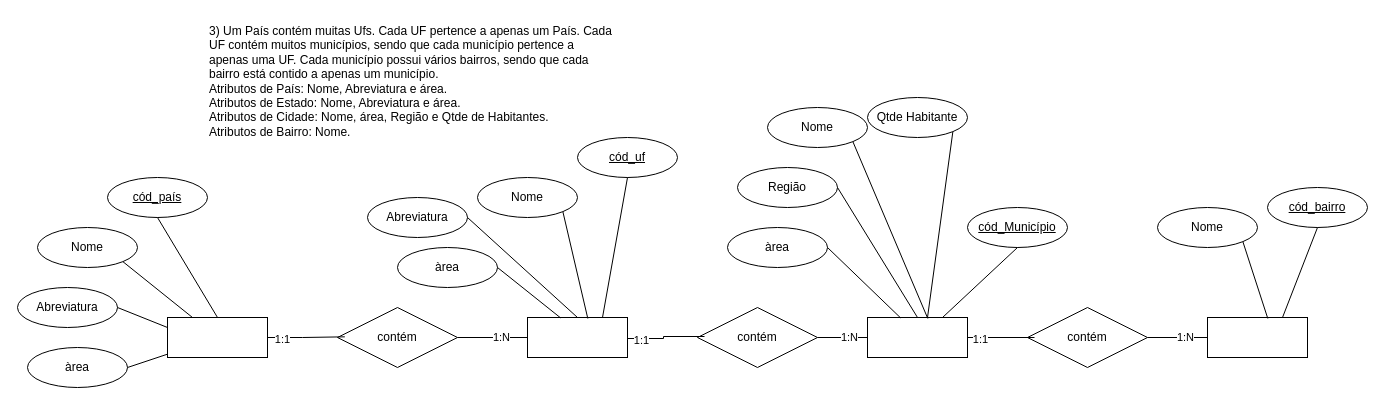
The diagram is 1385 pixels wide and 405 high, and some of its shapes have lost their labels. The centre of each missing label's shape, as x and y in pixels:
"bairro" goes at (x=1257, y=337).
"Município" goes at (x=917, y=337).
"País" goes at (x=217, y=337).
"UF" goes at (x=577, y=337).
